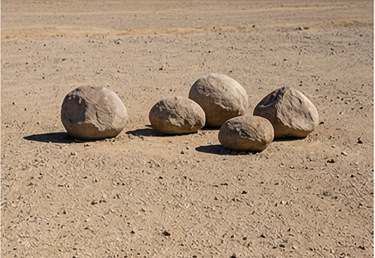rocks: (150, 73, 318, 150), (62, 87, 127, 137)
